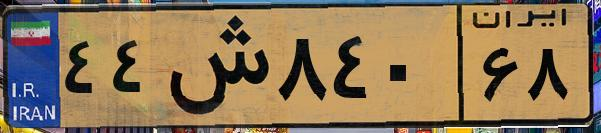0: (385, 28, 445, 110)
4: (330, 28, 385, 110), (57, 26, 110, 100), (110, 28, 158, 98)
6: (475, 38, 525, 113)
8: (270, 28, 330, 110), (525, 38, 570, 115)
ش: (158, 12, 270, 120)
